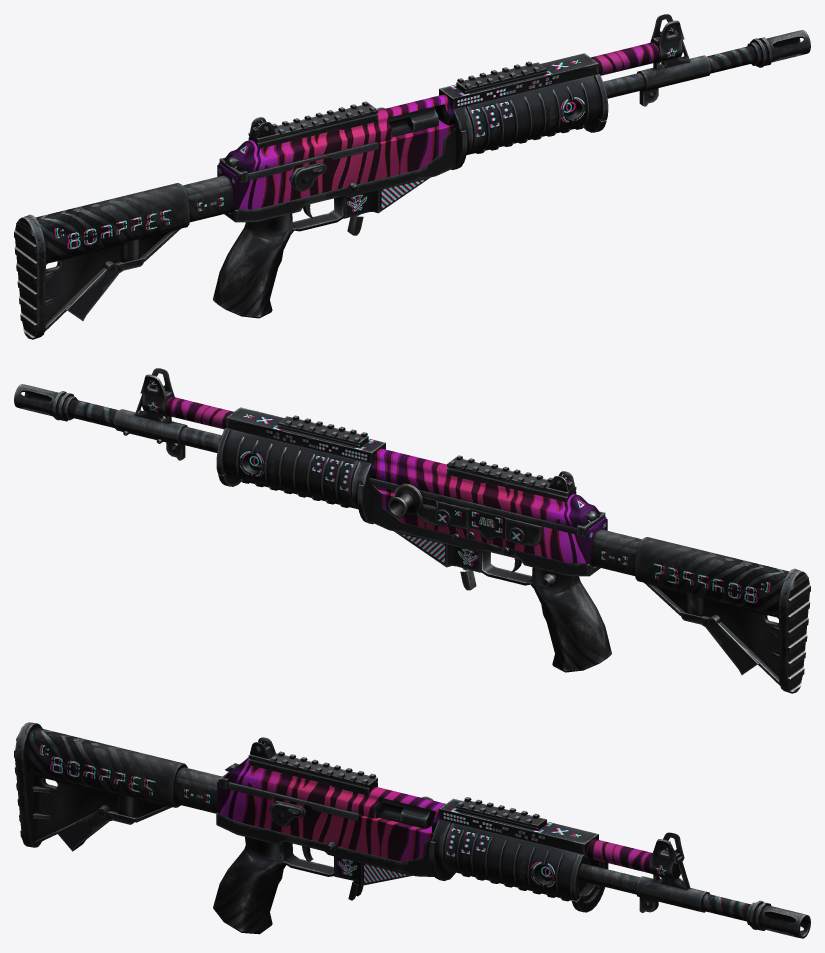
File: w_assaultrifle_chroma_pink.glb
3 renders of one model, top to bottom at view 1: azimuth 30°, elevation 25°; view 2: azimuth 150°, elevation 25°; view 3: azimuth 330°, elevation 25°, orthographic.
Visible parts, largest first — view 1: Gun_Root; view 2: Gun_Root; view 3: Gun_Root.
Boxes of the visible parts, bbox=[...] form: Gun_Root: bbox=[14, 14, 810, 339]; Gun_Root: bbox=[14, 368, 810, 693]; Gun_Root: bbox=[14, 722, 810, 938].
Bounding box in the file's own units: 0.8573 × 0.2015 × 0.0789.
Materials: 1 (1 with a texture image).
